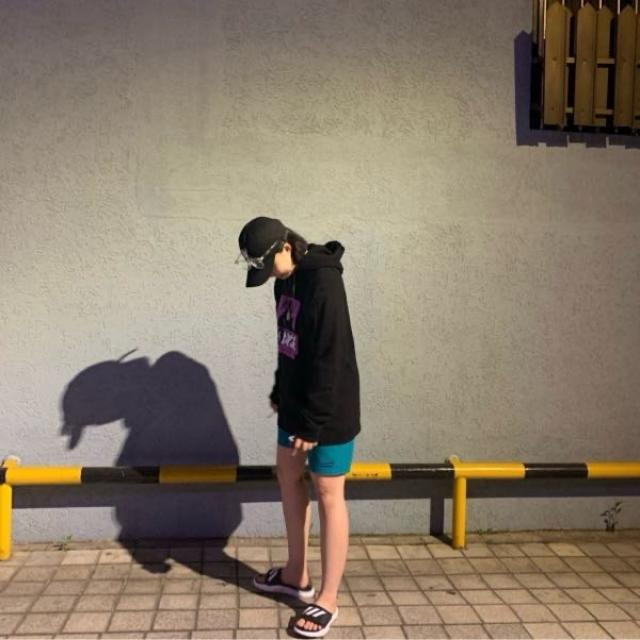hoodies: (272, 234, 362, 446)
shortpants: (276, 408, 357, 476)
